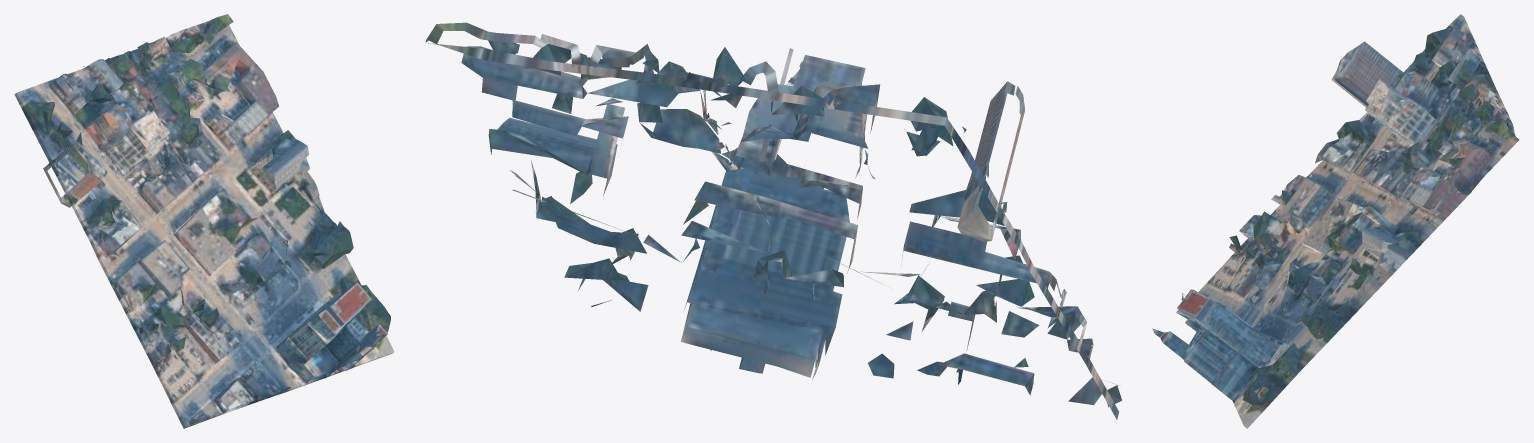
The model's file is AJVsH2y1IOIeARXPF1sGRmAAGzfBrt6Pt3BTh7XiJxnzlKva6C5D0QqxpFXP0dXjAN9ervLjY_K6B0HXOfuqmf-vuw9mhsDUG4v4xtfhn_nb5YyELzAqHovillZKgoteBPBoZUjqH4j3-KDhsNyw77OsIOn0-_U_Cg.glb.
3 views of the same model, side by side, from view 1: azimuth 30°, elevation 25°; view 2: azimuth 150°, elevation 25°; view 3: azimuth 270°, elevation 25° (orthographic). The views are drawn at different scales.
Bounding box in the file's own units: 257 × 236 × 277.
2 materials, 2 textured.
